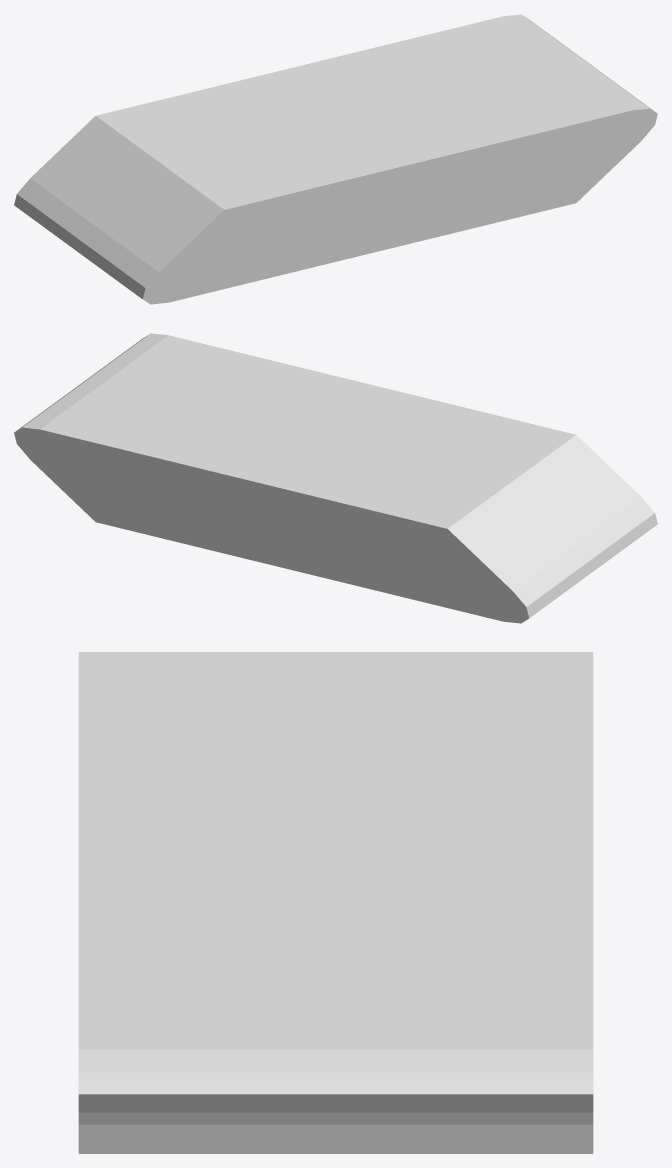
The model's file is Borrador.fbx.
The picture shows the model from 3 angles, top to bottom: view 1: azimuth 30°, elevation 25°; view 2: azimuth 150°, elevation 25°; view 3: azimuth 270°, elevation 25°; orthographic projection. The views are drawn at different scales.
Visible parts, largest first — view 1: Borrador; view 2: Borrador; view 3: Borrador.
Boxes of the visible parts, <box> form: Borrador: <box>14,14,657,304</box>; Borrador: <box>14,333,657,623</box>; Borrador: <box>78,652,593,1153</box>.
Size of the model in its own units: 6.11 by 0.8965 by 2.64.
